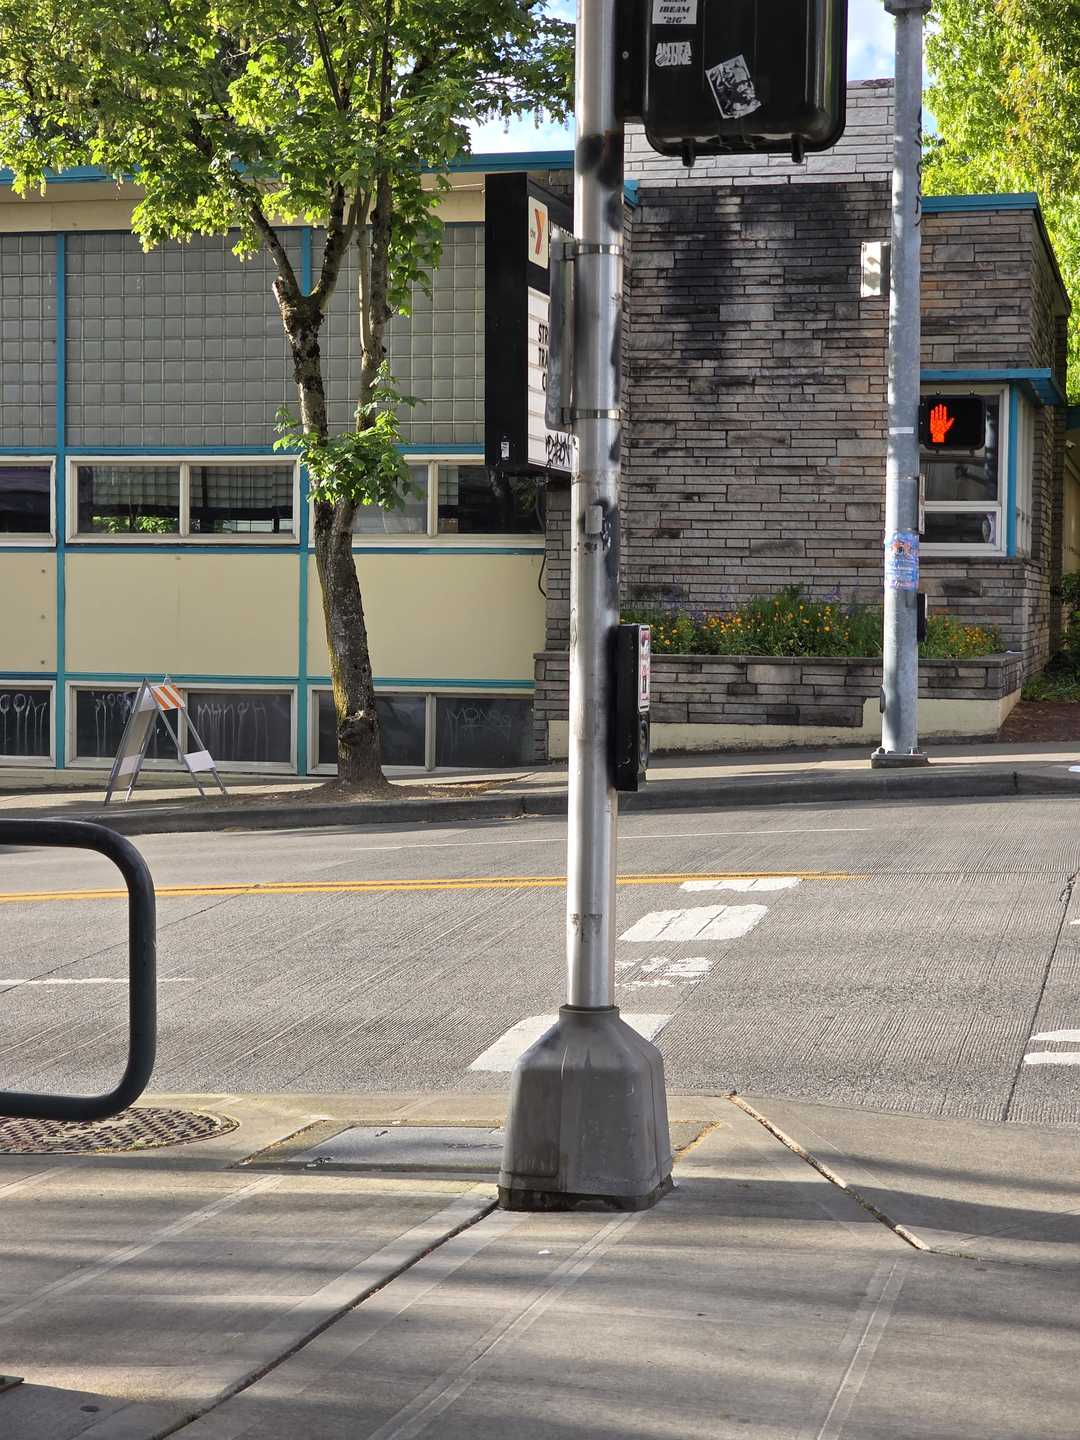ped_button: (600, 618, 658, 806)
